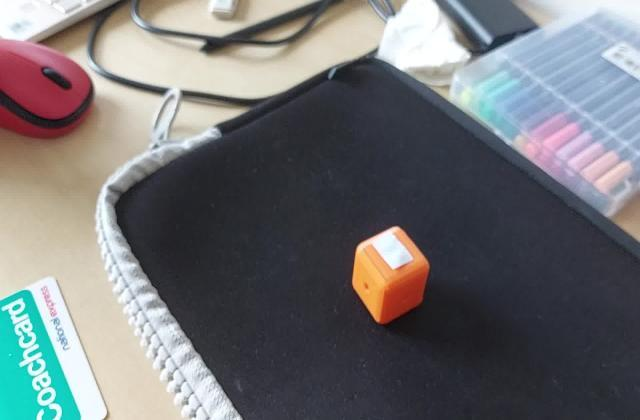sticker: (348, 224, 432, 326)
white: (372, 240, 415, 271)
